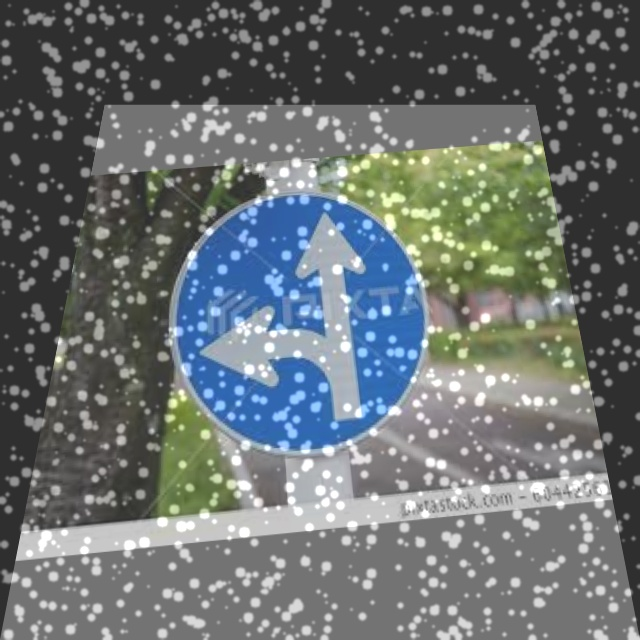Compulsory_Ahead_or_Turn_Left: (142, 188, 454, 455)
